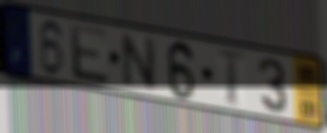3: (257, 57, 290, 115)
6: (165, 38, 197, 102), (38, 18, 66, 78)
E: (68, 21, 112, 88)
N: (120, 30, 158, 93)
T: (215, 47, 248, 109)
